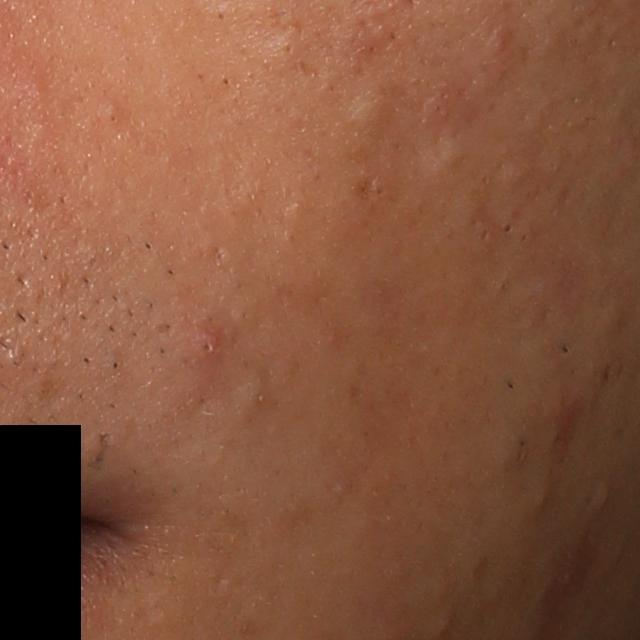comedo: (349, 91, 402, 137), (241, 374, 272, 416), (275, 30, 301, 63), (531, 486, 553, 511), (98, 104, 120, 128)
papule: (184, 326, 222, 365)
